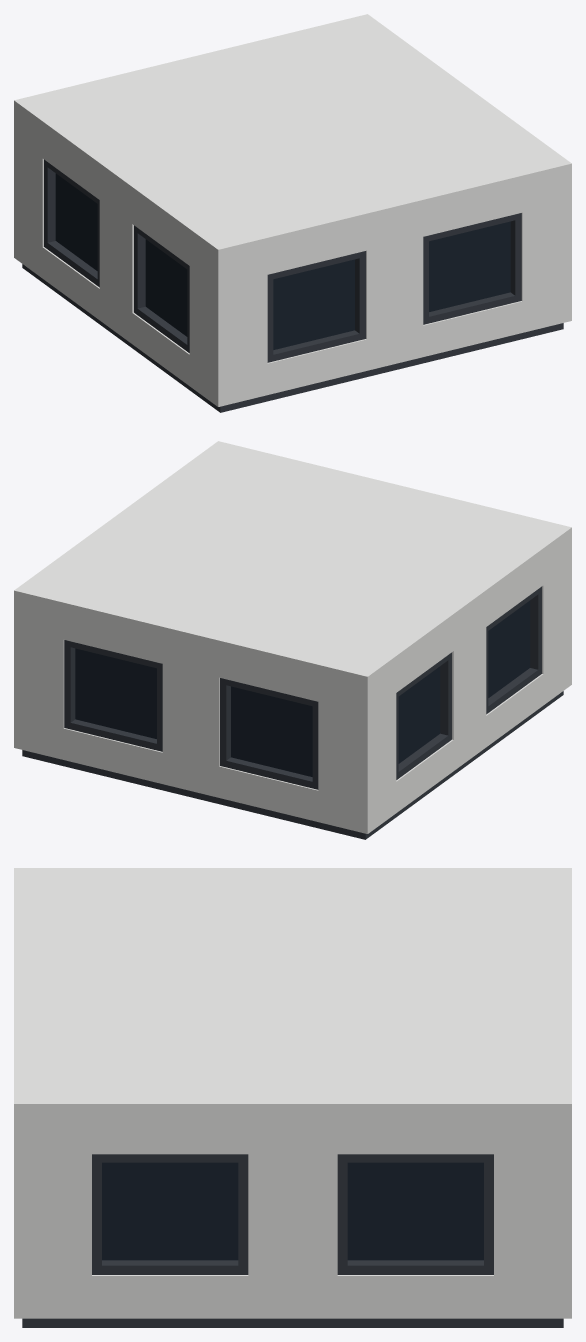
Rendered from floor_a.glb.
3 renders of one model, top to bottom at view 1: azimuth 30°, elevation 25°; view 2: azimuth 150°, elevation 25°; view 3: azimuth 270°, elevation 25°, orthographic. The views are drawn at different scales.
Visible parts, largest first — view 1: floor_a; view 2: floor_a; view 3: floor_a.
Boxes of the visible parts, <box> form: floor_a: <box>14,14,571,412</box>; floor_a: <box>14,441,571,839</box>; floor_a: <box>14,868,571,1327</box>.
Size of the model in its own units: 1 by 0.45 by 1.
